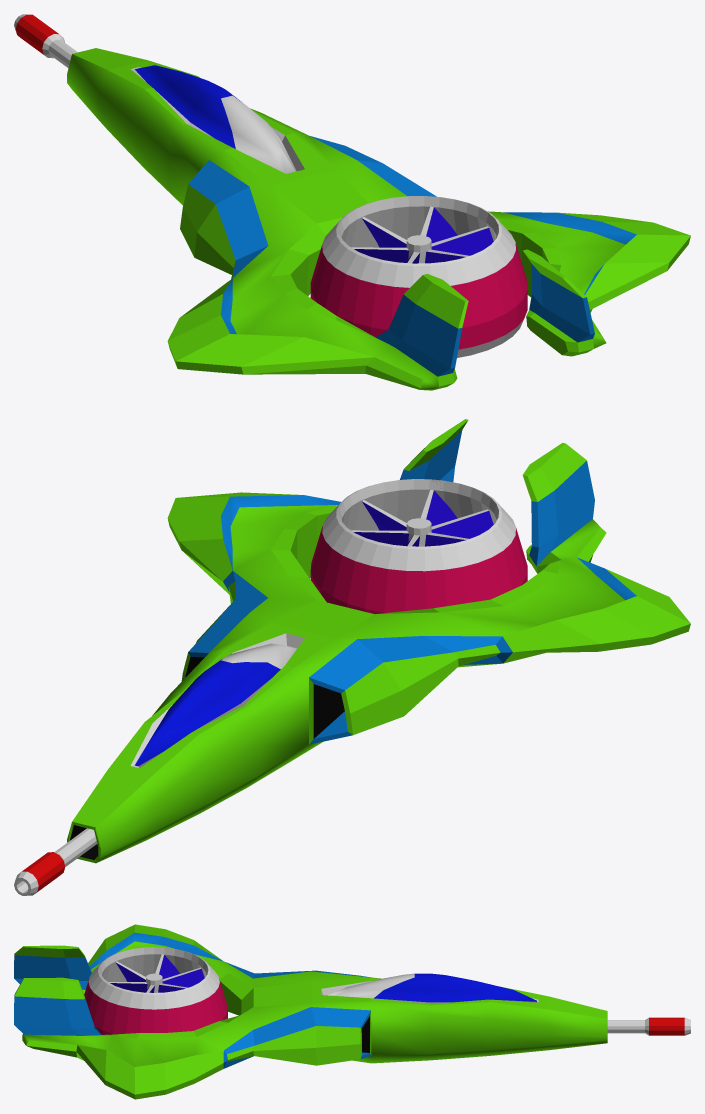
File: UFighter2.fbx
3 views of the same model, one above another, from view 1: azimuth 30°, elevation 25°; view 2: azimuth 150°, elevation 25°; view 3: azimuth 270°, elevation 25° (orthographic). The views are drawn at different scales.
Visible parts, largest first — view 1: Chassis, ImpellarFrame, Impellar, MainGun; view 2: Chassis, ImpellarFrame, Impellar, MainGun; view 3: Chassis, ImpellarFrame, Impellar, MainGun.
Boxes of the visible parts, <box> form: Chassis: <box>67,48,690,390</box>; ImpellarFrame: <box>310,196,527,357</box>; Impellar: <box>351,206,493,263</box>; MainGun: <box>14,14,77,68</box>; Chassis: <box>67,419,690,863</box>; ImpellarFrame: <box>310,479,527,613</box>; Impellar: <box>351,489,493,546</box>; MainGun: <box>14,828,97,895</box>; Chassis: <box>14,924,607,1099</box>; ImpellarFrame: <box>84,947,227,1034</box>; Impellar: <box>108,954,204,992</box>; MainGun: <box>607,1017,690,1035</box>.
Size of the model in its own units: 961 by 250 by 1615.
